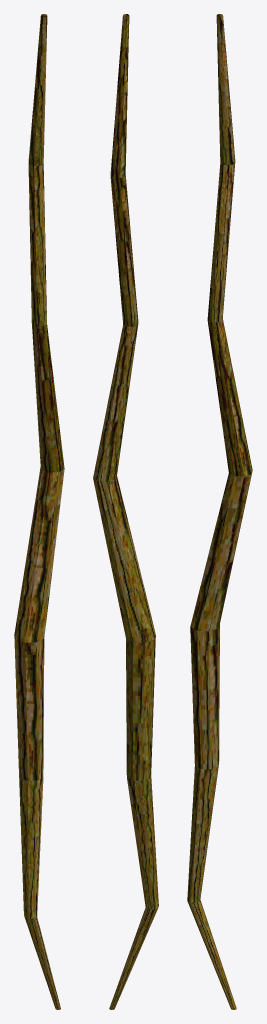
The model's file is Stick.fbx.
3 views of the same model, side by side, from view 1: azimuth 30°, elevation 25°; view 2: azimuth 150°, elevation 25°; view 3: azimuth 330°, elevation 25° (orthographic).
Visible parts, largest first — view 1: Cylinder; view 2: Cylinder; view 3: Cylinder.
Boxes of the visible parts, x1=… form: Cylinder: x1=14, y1=14, x2=64, y2=1009; Cylinder: x1=93, y1=14, x2=158, y2=1009; Cylinder: x1=187, y1=14, x2=252, y2=1009.
Bounding box in the file's own units: 4.02 × 71.21 × 2.88.
Materials: 1 (1 with a texture image).
